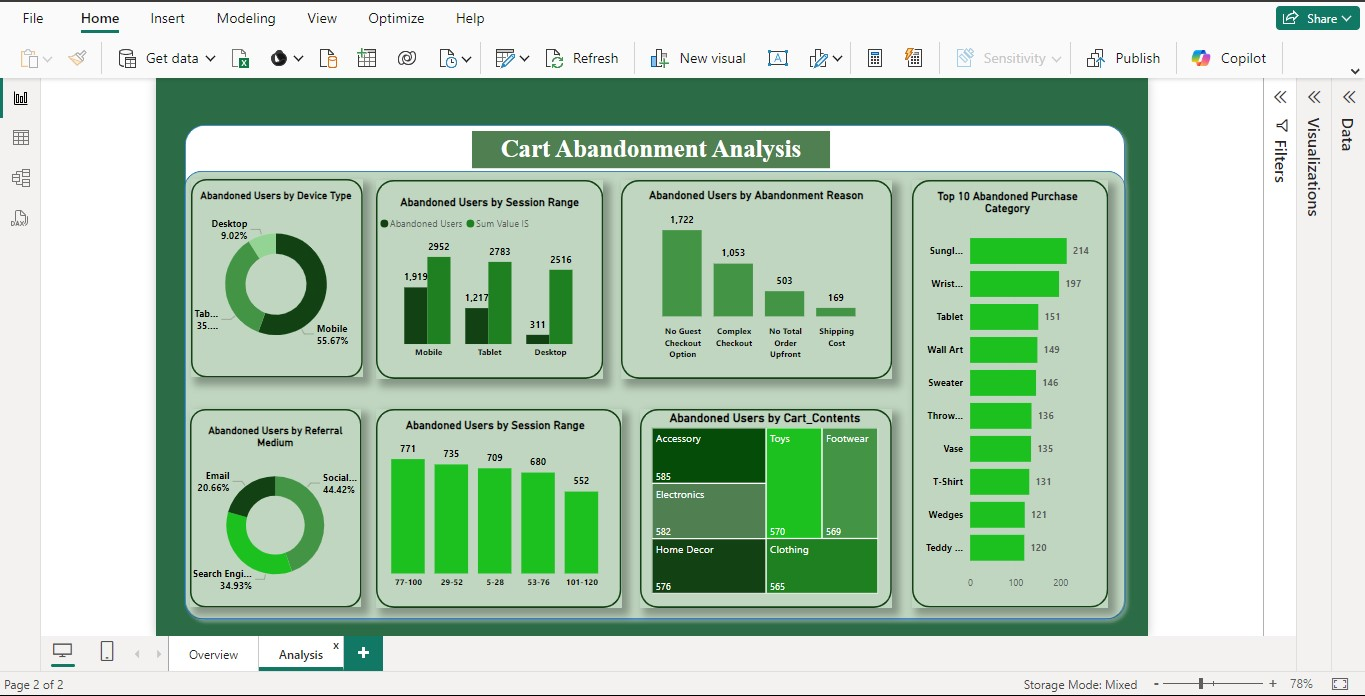

This screenshot's page, from the dashboard's own definition file:
{"tool":"powerbi","page":{"name":"Analysis","canvas":[1280,720],"ordinal":1},"visuals":[{"type":"group","id":"g1","title":"Group 1","box":[26.5,52.2,1233.1,656.5],"z":0},{"type":"shape","box":[27.8,52.2,1230.7,656.5],"z":0,"group":"g2"},{"type":"shape","box":[26.5,111.3,1233.1,596.2],"z":1000,"group":"g2"},{"type":"shape","box":[44.6,130.8,221.5,256.2],"z":1000},{"type":"shape","box":[283.3,131.7,293.3,256.7],"z":2000},{"type":"shape","box":[600,131.7,350,256.7],"z":3000},{"type":"shape","box":[975,131.7,253.3,551.7],"z":4000},{"type":"shape","box":[43.8,427.5,221.2,256.2],"z":5000},{"type":"shape","box":[283.3,426.7,316.7,256.7],"z":6000},{"type":"shape","box":[625,426.7,325,256.7],"z":7000},{"type":"group","id":"g2","title":"Group 8","box":[26.5,52.2,1233.1,656.5],"z":7002,"group":"g1"},{"type":"textbox","box":[408.3,68.3,461.7,48.3],"z":8000},{"type":"donutChart","title":"Abandoned Users by Device Type","fields":{"Category":["Magicmade Past_Records.Device_Type"],"Y":["Measure.Abandoned Users"]},"box":[46.7,145,216.7,228.3],"z":9000},{"type":"donutChart","title":"Abandoned Users by Referral Medium","fields":{"Category":["Magicmade Past_Records.Referral_Medium"],"Y":["Measure.Abandoned Users"]},"box":[45,447.5,217.5,228.8],"z":10000},{"type":"clusteredColumnChart","title":"Abandoned Users by Abandonment Reason","fields":{"Category":["Magicmade Past_Records.Abandonment_Reason"],"Y":["Measure.Abandoned Users"]},"box":[613.3,143.3,323.3,228.3],"z":11000},{"type":"treemap","fields":{"Values":["Measure.Abandoned Users"],"Group":["Magicmade Past_Records.Cart_Contents"]},"box":[635,428.3,301.7,241.7],"z":12000},{"type":"clusteredBarChart","title":"Top 10 Abandoned Purchase Category","fields":{"Y":["Measure.Abandoned Users"],"Category":["Magicmade Past_Records.Purchase_Category"]},"box":[975,145,246.7,525],"z":13000},{"type":"clusteredColumnChart","title":"Abandoned Users by Session Range","fields":{"Category":["Magicmade Past_Records.Session Range"],"Y":["Measure.Abandoned Users"]},"box":[276.7,440,323.3,228.3],"z":14000},{"type":"clusteredColumnChart","title":"Abandoned Users by Session Range","fields":{"Y":["Measure.Abandoned Users","Measure.Sum Value IS"],"Category":["Industry Standard.Device Types IS"]},"box":[283.3,151.7,293.3,220],"z":15000}]}

Visuals, with their boxes on the page's 1280x720 design canvas (x1, y1, x2, y2). These are canvas units, not pixel positions in the 1365x696 screenshot, which may show the page scaled, cropped or inside an application window:
"Group 1" group: locate(26, 52, 1260, 709)
shape: locate(28, 52, 1258, 709)
shape: locate(26, 111, 1260, 708)
shape: locate(45, 131, 266, 387)
shape: locate(283, 132, 577, 388)
shape: locate(600, 132, 950, 388)
shape: locate(975, 132, 1228, 683)
shape: locate(44, 428, 265, 684)
shape: locate(283, 427, 600, 683)
shape: locate(625, 427, 950, 683)
"Group 8" group: locate(26, 52, 1260, 709)
textbox: locate(408, 68, 870, 117)
"Abandoned Users by Device Type" donutChart: locate(47, 145, 263, 373)
"Abandoned Users by Referral Medium" donutChart: locate(45, 448, 262, 676)
"Abandoned Users by Abandonment Reason" clusteredColumnChart: locate(613, 143, 937, 372)
treemap - Measure.Abandoned Users x Magicmade Past_Records.Cart_Contents: locate(635, 428, 937, 670)
"Top 10 Abandoned Purchase Category" clusteredBarChart: locate(975, 145, 1222, 670)
"Abandoned Users by Session Range" clusteredColumnChart: locate(277, 440, 600, 668)
"Abandoned Users by Session Range" clusteredColumnChart: locate(283, 152, 577, 372)
